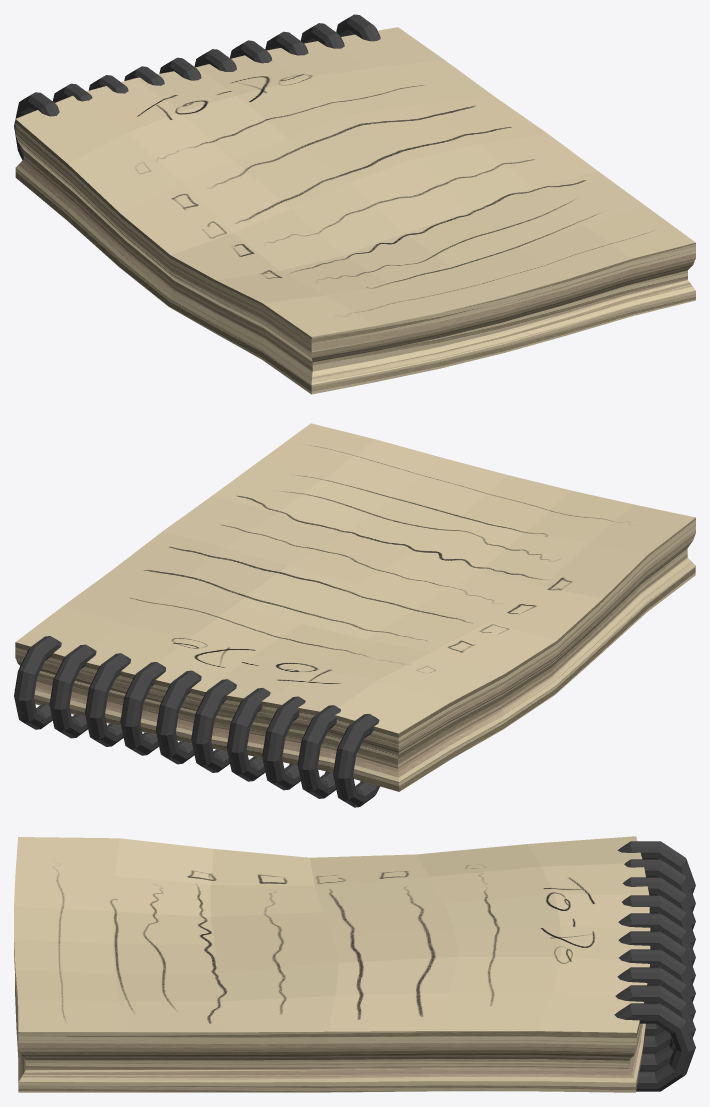
File: todo.fbx
3 renders of one model, top to bottom at view 1: azimuth 30°, elevation 25°; view 2: azimuth 150°, elevation 25°; view 3: azimuth 270°, elevation 25°, orthographic. The views are drawn at different scales.
Parts seen in each view (by area): view 1: Cube; view 2: Cube; view 3: Cube.
Boxes of the visible parts, x1,y1,x2,y2 form: Cube: [14, 14, 695, 394]; Cube: [14, 423, 695, 807]; Cube: [14, 836, 695, 1092].
Bounding box in the file's own units: 46.07 × 9.63 × 67.62.
2 materials, 1 textured.
